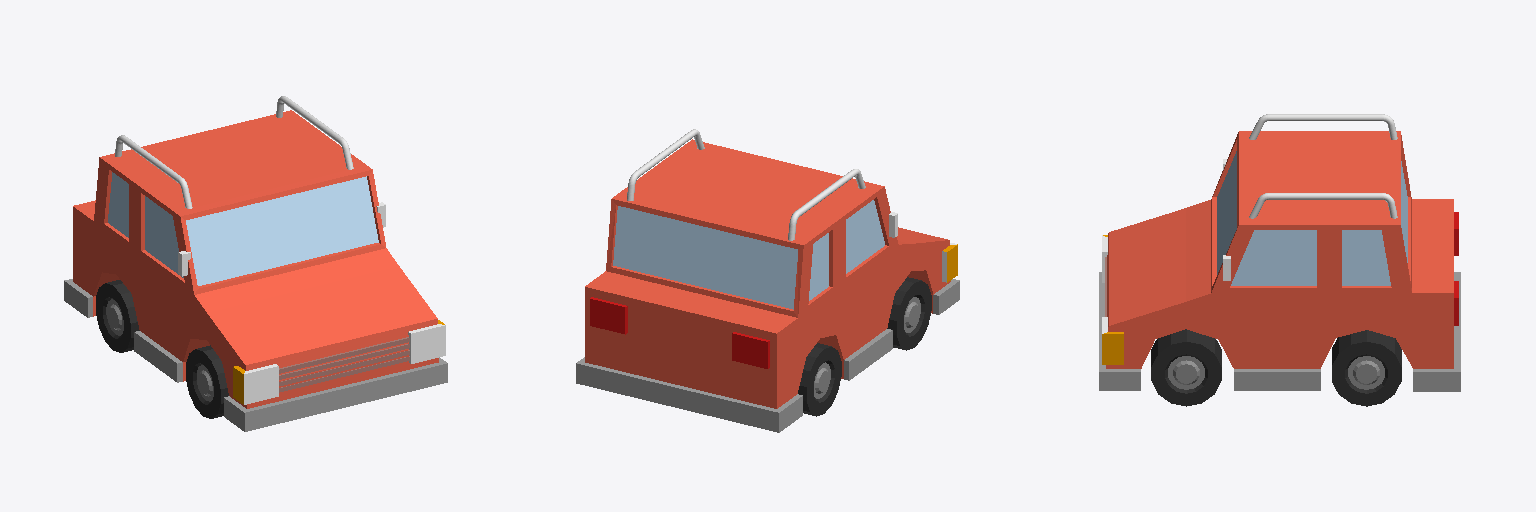
File: car_01.obj
3 renders of one model, left to right at view 1: azimuth 30°, elevation 25°; view 2: azimuth 150°, elevation 25°; view 3: azimuth 270°, elevation 25°, orthographic.
Parts seen in each view (by area): view 1: body.1, light_1, Cube, front_wheel.1, front_wheel, Sweep.1; view 2: body.1, front_wheel, front_wheel.1, light, Sweep.1, light_1; view 3: body.1, front_wheel, front_wheel.1, Sweep.1, light_1.
Boxes of the visible parts, <box> form: body.1: <box>64,110,447,431</box>; light_1: <box>233,320,445,404</box>; Cube: <box>279,337,409,392</box>; front_wheel.1: <box>96,280,139,352</box>; front_wheel: <box>186,345,228,418</box>; Sweep.1: <box>115,96,353,208</box>; body.1: <box>576,139,959,432</box>; front_wheel: <box>887,277,931,350</box>; front_wheel.1: <box>798,343,841,416</box>; light: <box>590,297,769,368</box>; Sweep.1: <box>627,129,865,240</box>; light_1: <box>942,243,957,282</box>; body.1: <box>1099,131,1460,391</box>; front_wheel: <box>1151,329,1221,406</box>; front_wheel.1: <box>1332,330,1401,406</box>; Sweep.1: <box>1249,114,1397,218</box>; light_1: <box>1102,235,1123,364</box>.
Size of the model in its own units: 100 by 95.96 by 154.